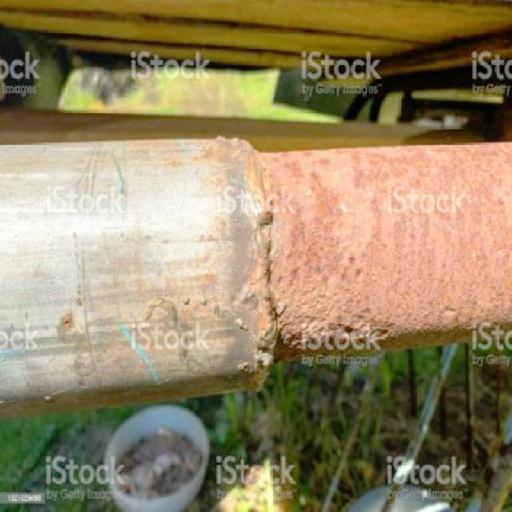corrosion: (257, 150, 512, 341)
